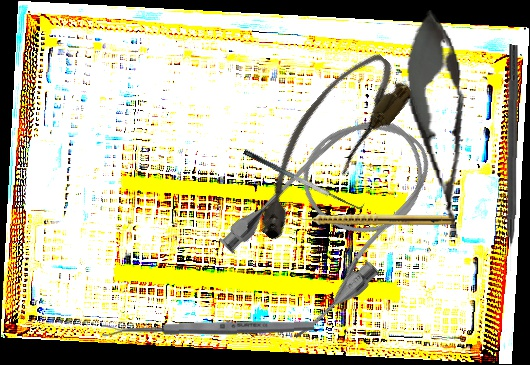Cannula: (207, 89, 465, 349), (229, 42, 420, 250)
Handpiece: (297, 212, 455, 225)
Hook Surgical: (502, 44, 520, 271)
Micro Scissor: (397, 7, 484, 242)
Spatula Surgical: (242, 139, 367, 216)
Surgical Spoon: (101, 319, 315, 337)
